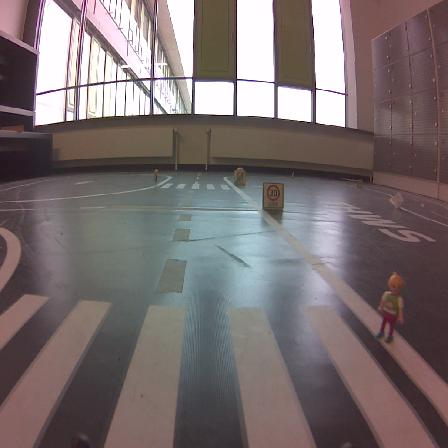30_ZONE_BEGIN: (262, 182, 284, 209)
CHILD: (375, 272, 405, 343)
